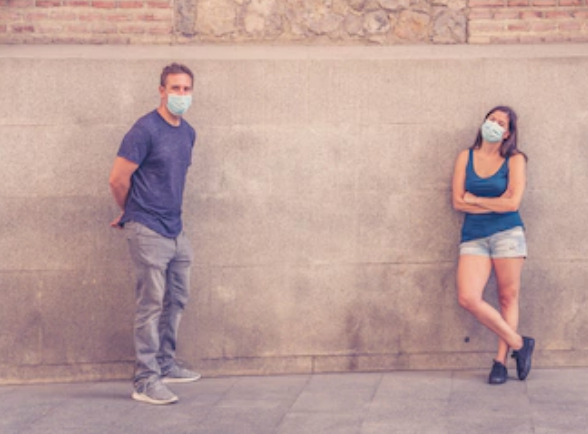Good: (109, 61, 539, 406)
